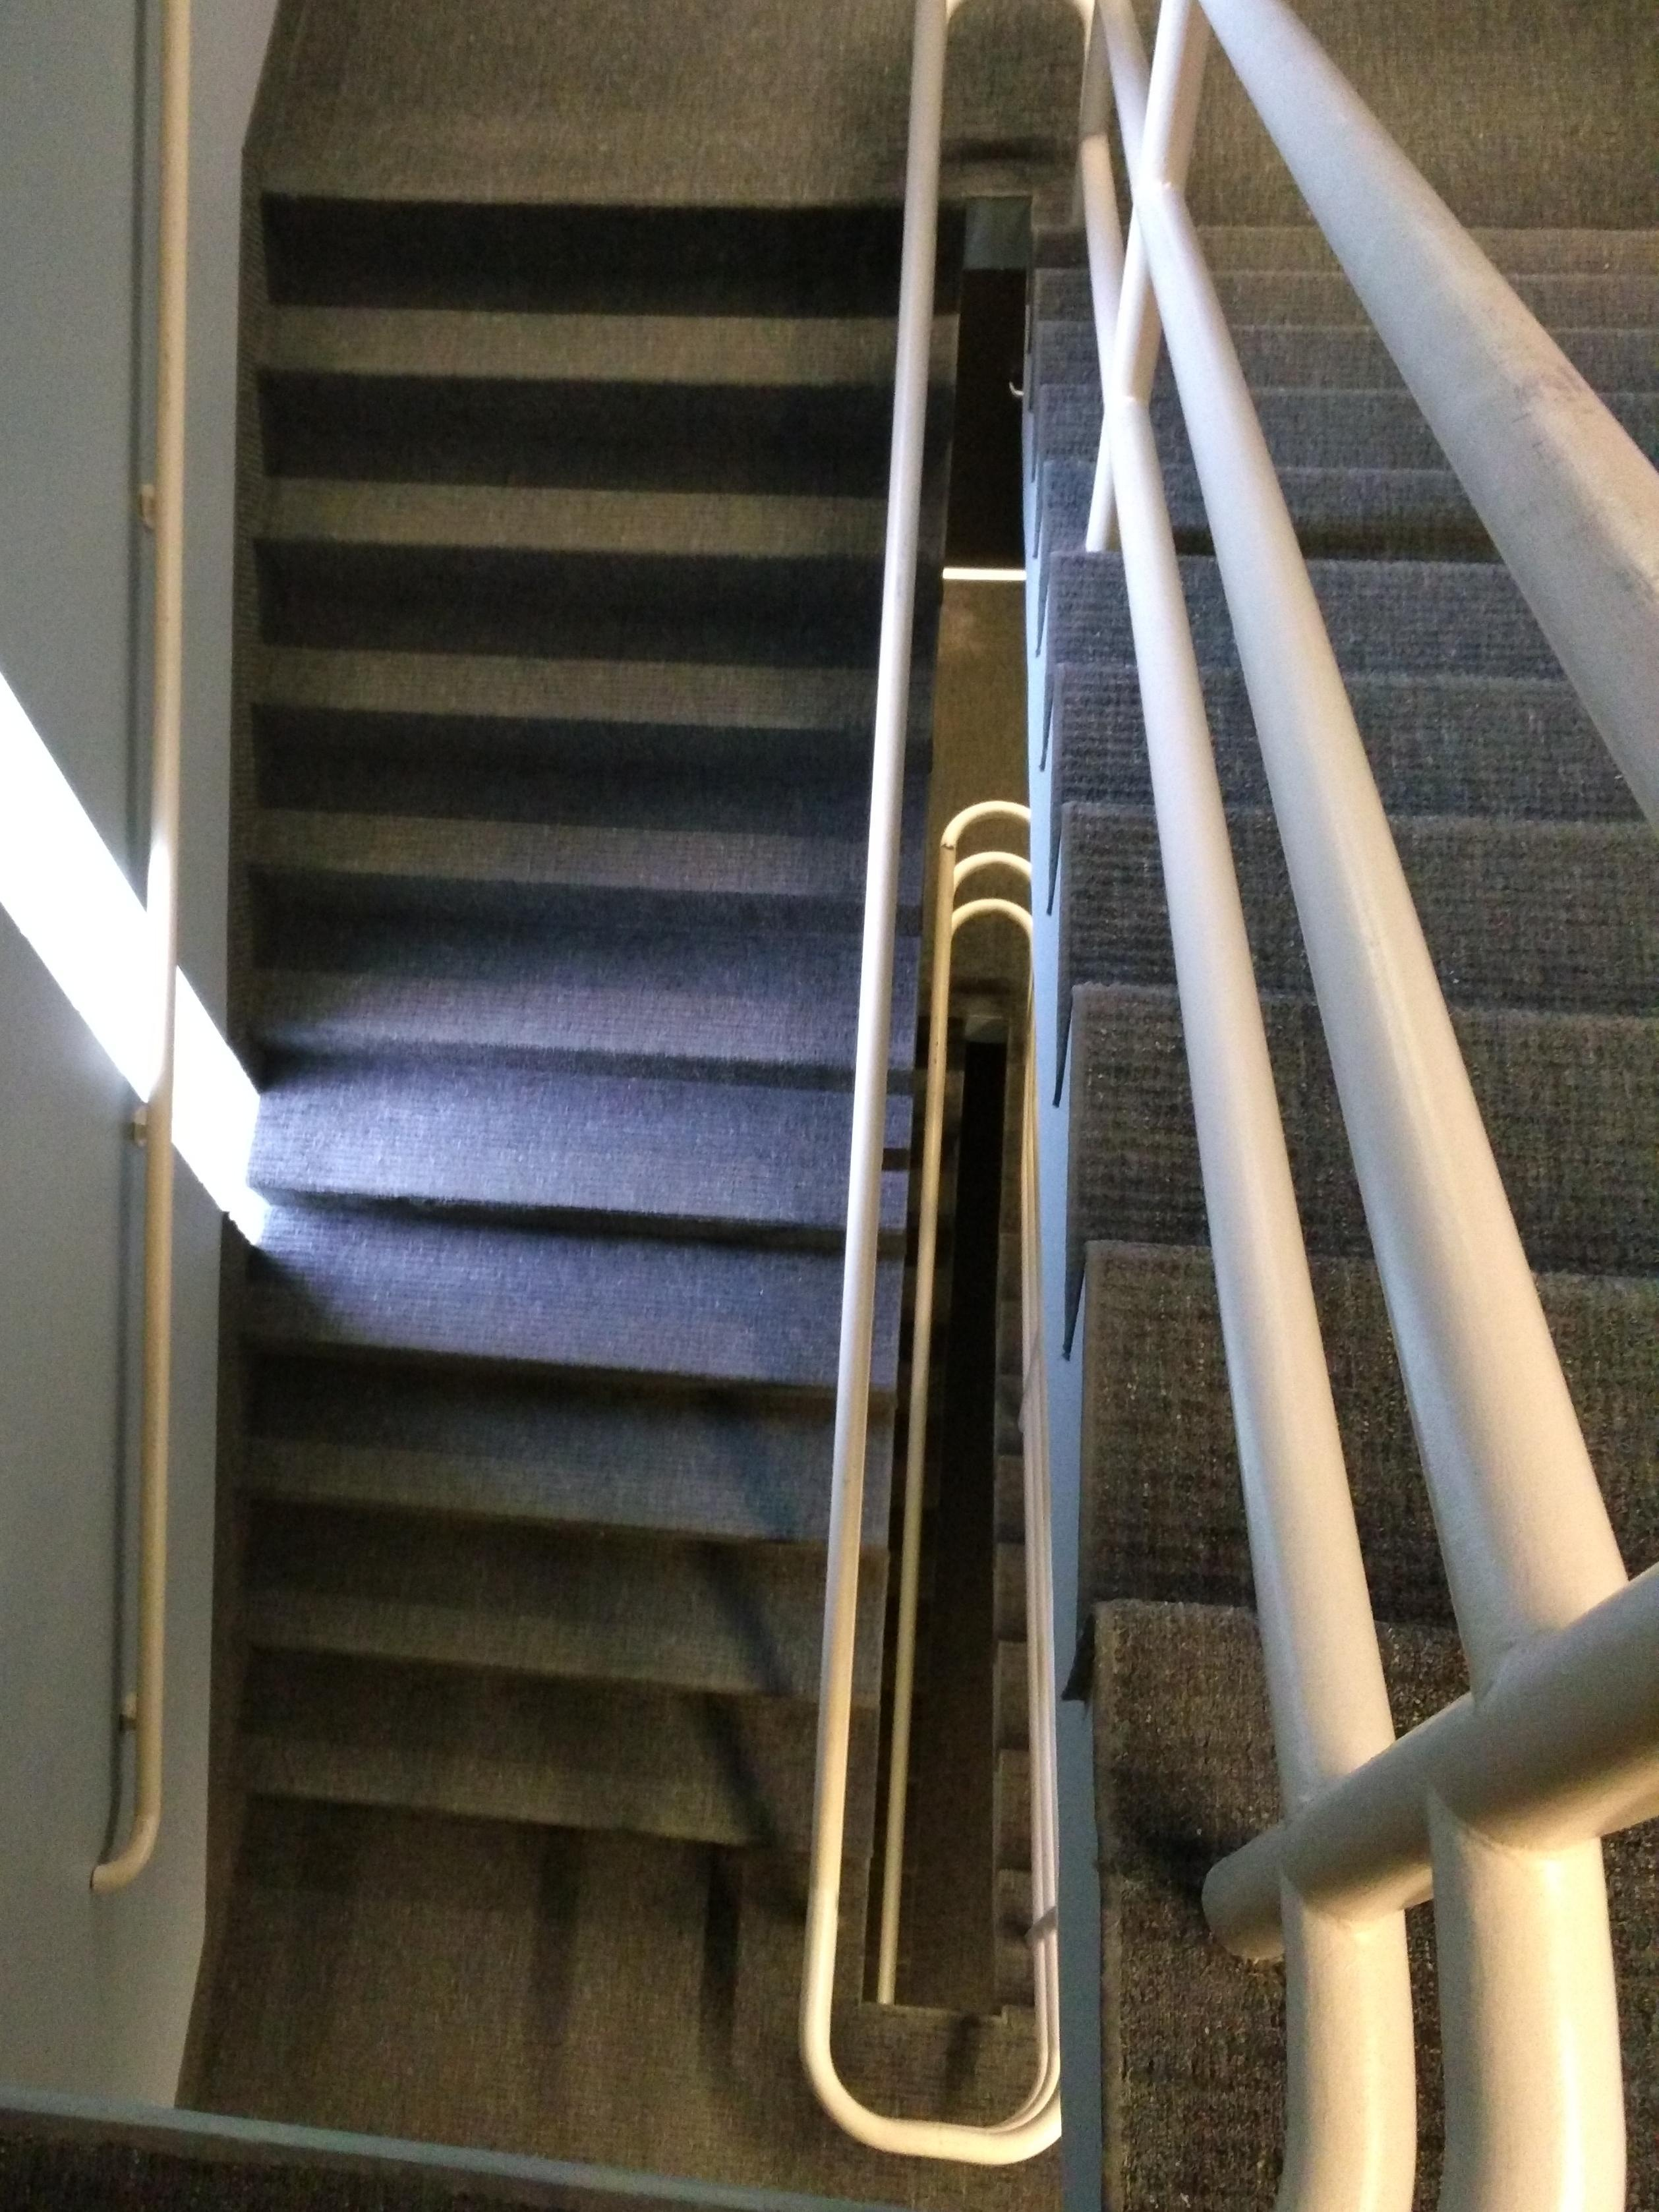stairs_down: (1072, 127, 1659, 1867)
stairs_up: (240, 167, 971, 1872)
